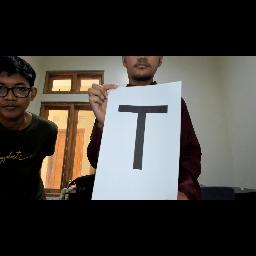t: (112, 100, 180, 174)
